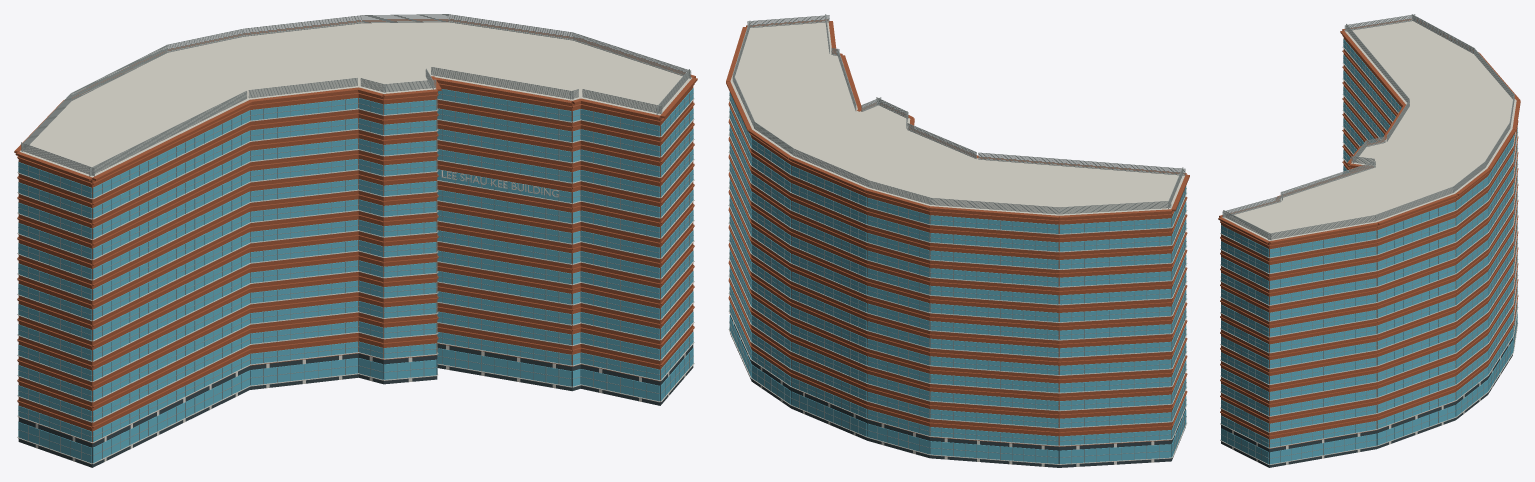
The model's file is leeshaukee.glb.
3 renders of one model, left to right at view 1: azimuth 30°, elevation 25°; view 2: azimuth 150°, elevation 25°; view 3: azimuth 270°, elevation 25°, orthographic. The views are drawn at different scales.
Parts seen in each view (by area): view 1: DETAIL_baked_REF_LSKB_blue, LSKB_main_mass, LSKB_roof_slab, DETAIL_baked_REF_LSKB_metal, DETAIL_baked_REF_LSKB_brick, DETAIL_baked_REF_LSKB_stone, LSKB_ground_glass, LSKB_roof_cornice_8; view 2: DETAIL_baked_REF_LSKB_blue, LSKB_main_mass, LSKB_roof_slab, DETAIL_baked_REF_LSKB_metal, DETAIL_baked_REF_LSKB_brick, DETAIL_baked_REF_LSKB_stone, LSKB_ground_glass, LSKB_roof_cornice_5; view 3: DETAIL_baked_REF_LSKB_blue, LSKB_main_mass, LSKB_roof_slab, DETAIL_baked_REF_LSKB_metal, DETAIL_baked_REF_LSKB_brick, DETAIL_baked_REF_LSKB_stone, LSKB_ground_glass, LSKB_roof_cornice_8, LSKB_roof_cornice_0, LSKB_roof_cornice_1.
Part boxes in pixels (x1,y1,x2,y2): DETAIL_baked_REF_LSKB_blue: (18,88,693,463); LSKB_main_mass: (18,82,693,443); LSKB_roof_slab: (19,21,691,177); DETAIL_baked_REF_LSKB_metal: (18,14,693,459); DETAIL_baked_REF_LSKB_brick: (17,83,694,428); DETAIL_baked_REF_LSKB_stone: (17,98,694,464); LSKB_ground_glass: (18,344,693,467); LSKB_roof_cornice_8: (92,100,252,180); DETAIL_baked_REF_LSKB_blue: (729,92,1186,463); LSKB_main_mass: (730,103,1185,446); LSKB_roof_slab: (730,21,1184,215); DETAIL_baked_REF_LSKB_metal: (729,14,1186,463); DETAIL_baked_REF_LSKB_brick: (728,101,1187,433); DETAIL_baked_REF_LSKB_stone: (728,97,1187,464); LSKB_ground_glass: (730,315,1185,467); LSKB_roof_cornice_5: (929,206,1059,219); DETAIL_baked_REF_LSKB_blue: (1221,38,1517,464); LSKB_main_mass: (1221,37,1512,448); LSKB_roof_slab: (1222,20,1516,240); DETAIL_baked_REF_LSKB_metal: (1220,14,1517,462); DETAIL_baked_REF_LSKB_brick: (1220,35,1518,436); DETAIL_baked_REF_LSKB_stone: (1220,47,1518,464); LSKB_ground_glass: (1221,337,1513,467); LSKB_roof_cornice_8: (1340,30,1405,106); LSKB_roof_cornice_0: (1269,222,1378,243); LSKB_roof_cornice_1: (1377,193,1458,224).
Bounding box in the file's own units: 100 × 48.47 × 57.03.
Materials: 6 (1 with a texture image).
